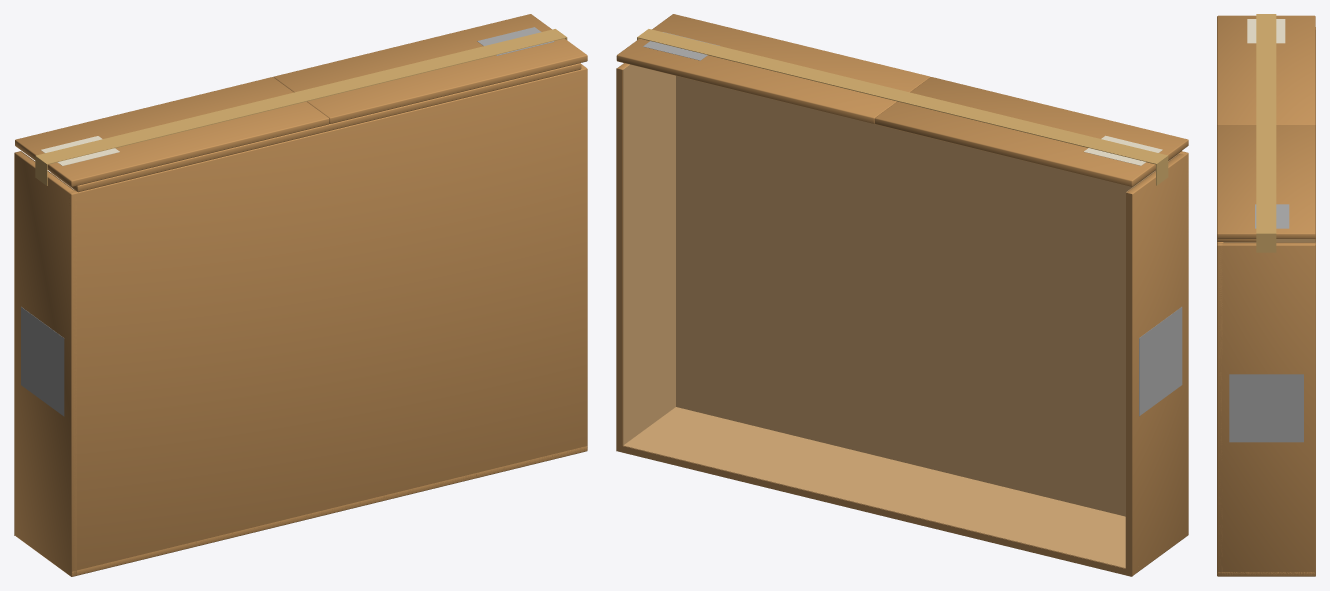
3 views of the same model, side by side, from view 1: azimuth 30°, elevation 25°; view 2: azimuth 150°, elevation 25°; view 3: azimuth 270°, elevation 25° (orthographic). The views are drawn at different scales.
Visible parts, largest first — view 1: box_7x5, FlapR, FlapL, Tape, FlapB; view 2: box_7x5, FlapR, FlapL, Tape; view 3: box_7x5, FlapL, FlapR, Tape.
Part boxes in pixels (bbox=[...]): box_7x5: bbox=[14, 64, 587, 576]; FlapR: bbox=[15, 77, 329, 186]; FlapL: bbox=[273, 14, 587, 123]; Tape: bbox=[35, 29, 567, 185]; FlapB: bbox=[51, 63, 581, 192]; box_7x5: bbox=[616, 63, 1188, 576]; FlapR: bbox=[874, 77, 1188, 186]; FlapL: bbox=[616, 14, 930, 123]; Tape: bbox=[637, 29, 1168, 185]; box_7x5: bbox=[1217, 27, 1315, 576]; FlapL: bbox=[1217, 125, 1315, 238]; FlapR: bbox=[1217, 15, 1315, 125]; Tape: bbox=[1256, 14, 1276, 252].
Size of the model in its own units: 1.81 by 1.32 by 0.3428.
